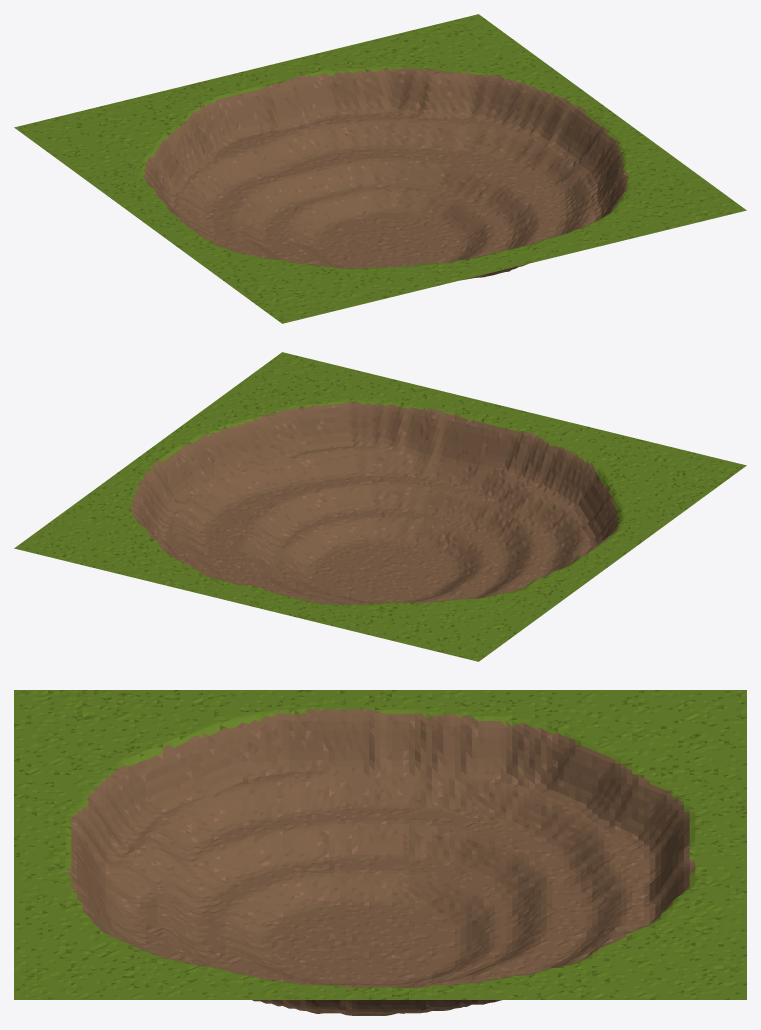
Rendered from mesh_terrain_medium_05.fbx.
3 renders of one model, top to bottom at view 1: azimuth 30°, elevation 25°; view 2: azimuth 150°, elevation 25°; view 3: azimuth 270°, elevation 25°, orthographic. The views are drawn at different scales.
Visible parts, largest first — view 1: mesh_terrain_medium_05; view 2: mesh_terrain_medium_05; view 3: mesh_terrain_medium_05.
Part boxes in pixels (box(x1,y1,x2,y2)): mesh_terrain_medium_05: box(14, 14, 746, 323); mesh_terrain_medium_05: box(14, 352, 746, 661); mesh_terrain_medium_05: box(14, 690, 746, 1015).
Bounding box in the file's own units: 50 × 7.33 × 50.
